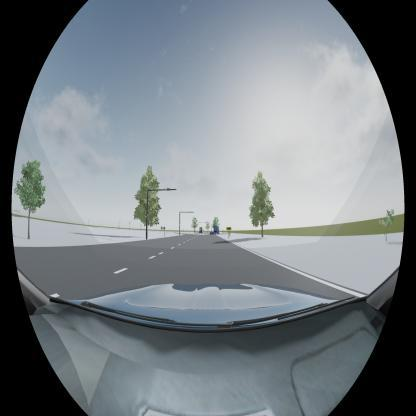Green Light: (166, 188, 170, 192)
